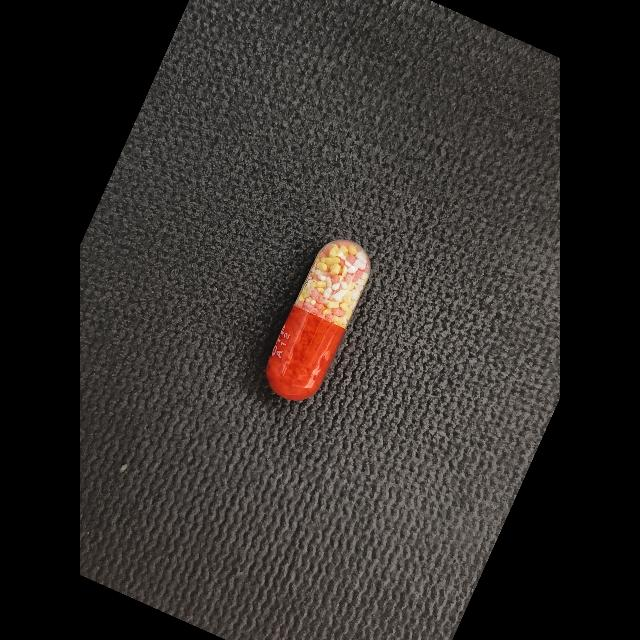Intact Capsule: (266, 239, 370, 401)
